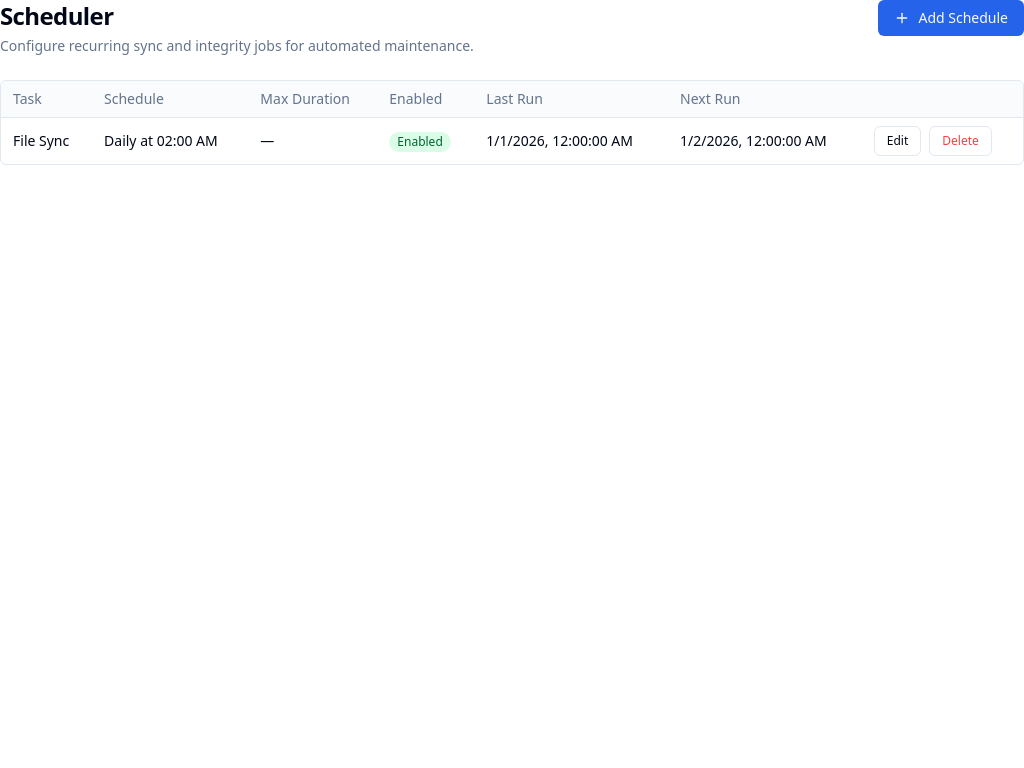
SchedulerPage › creates a schedule with a custom cron expression
The image size is (1024, 768).
Expected: the row with test id "schedule-row-1" is shown, [1,118,1023,164]
Click the button "Add Schedule" at (951, 18), box [878,0,1023,36]
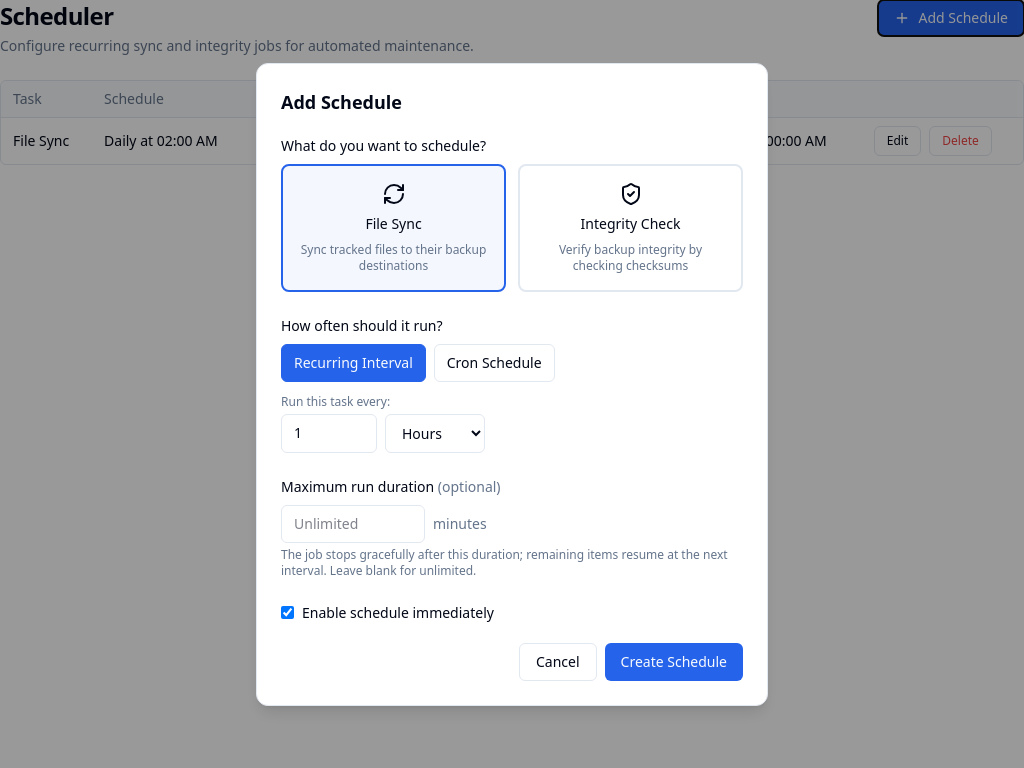
# Switch to cron timing method
Click the button "Cron Schedule" at (494, 362), box [434,344,555,382]
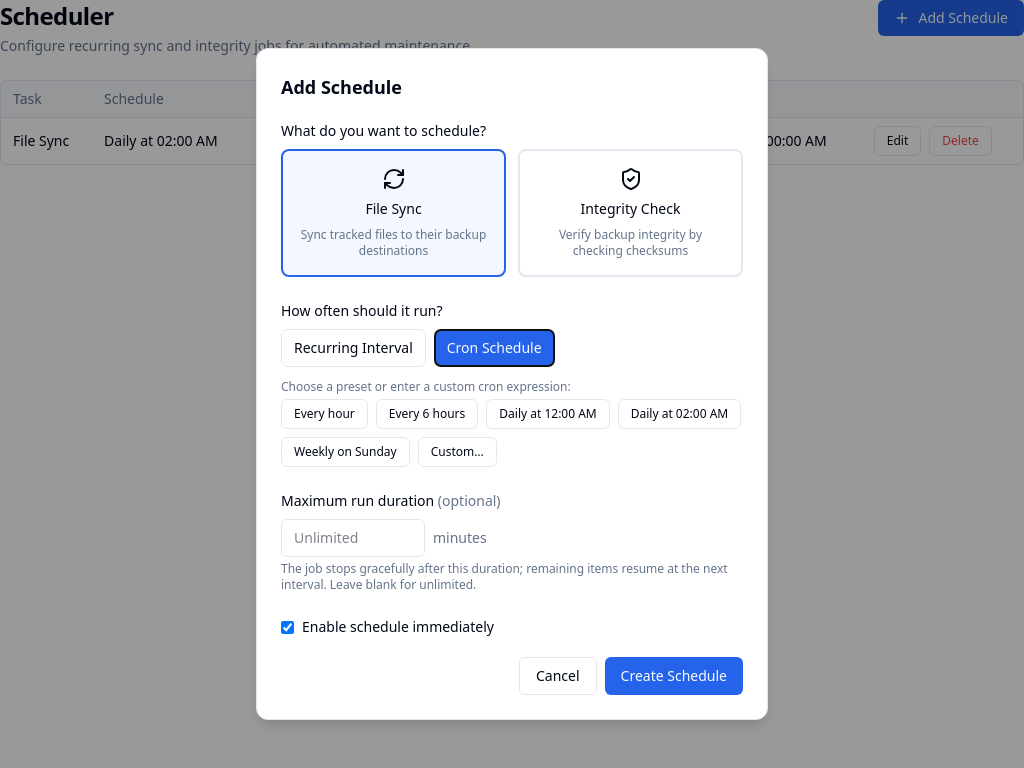
# Click Custom…
Click the button "Custom…" at (457, 452), box [418,437,497,467]
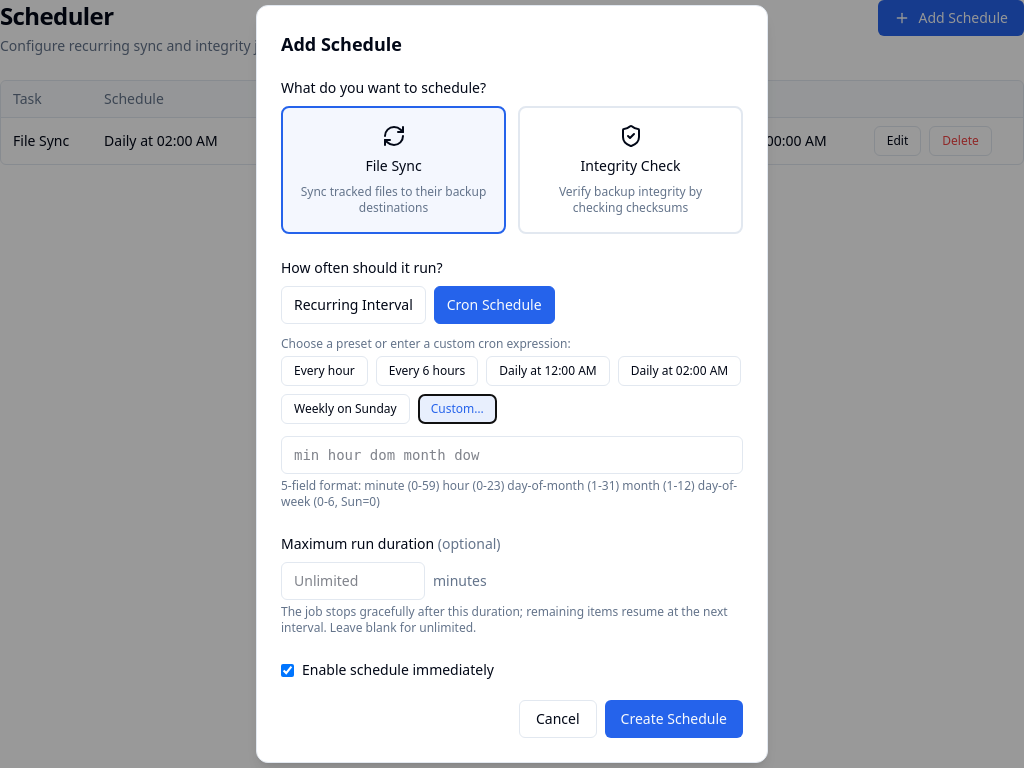
# Type custom cron expression
Type "30 4 * * 1-5" into the field named "Custom cron expression" at (512, 455), box [281,436,743,474]
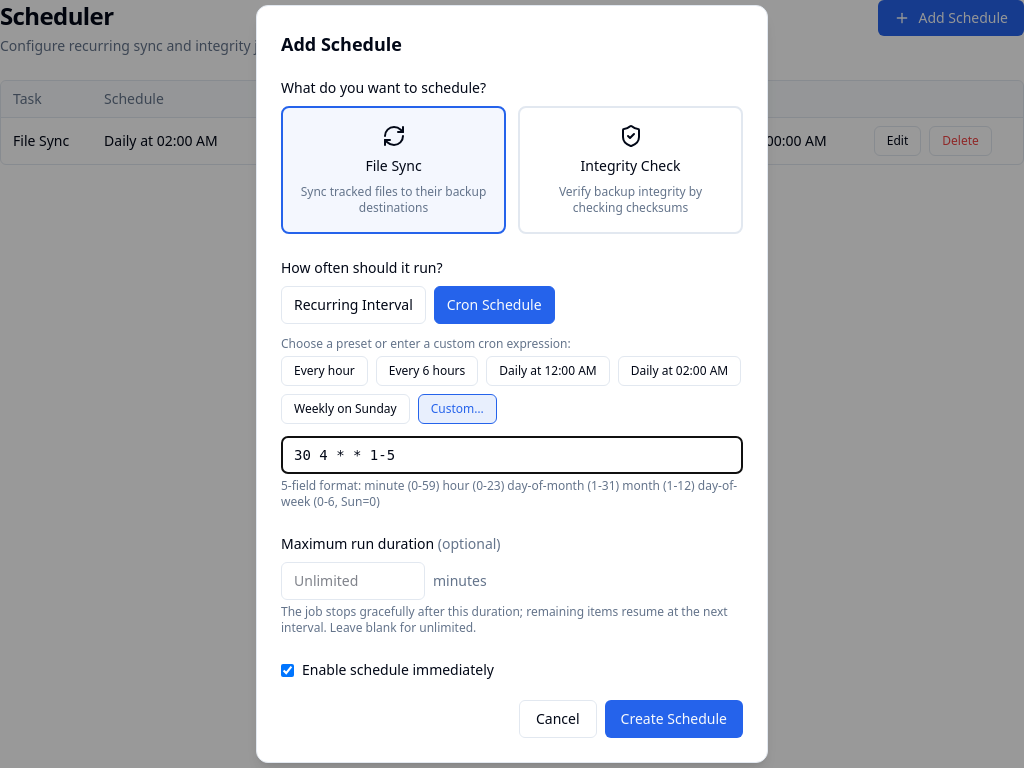
Click the button "Create Schedule" at (674, 719), box [605,700,743,738]
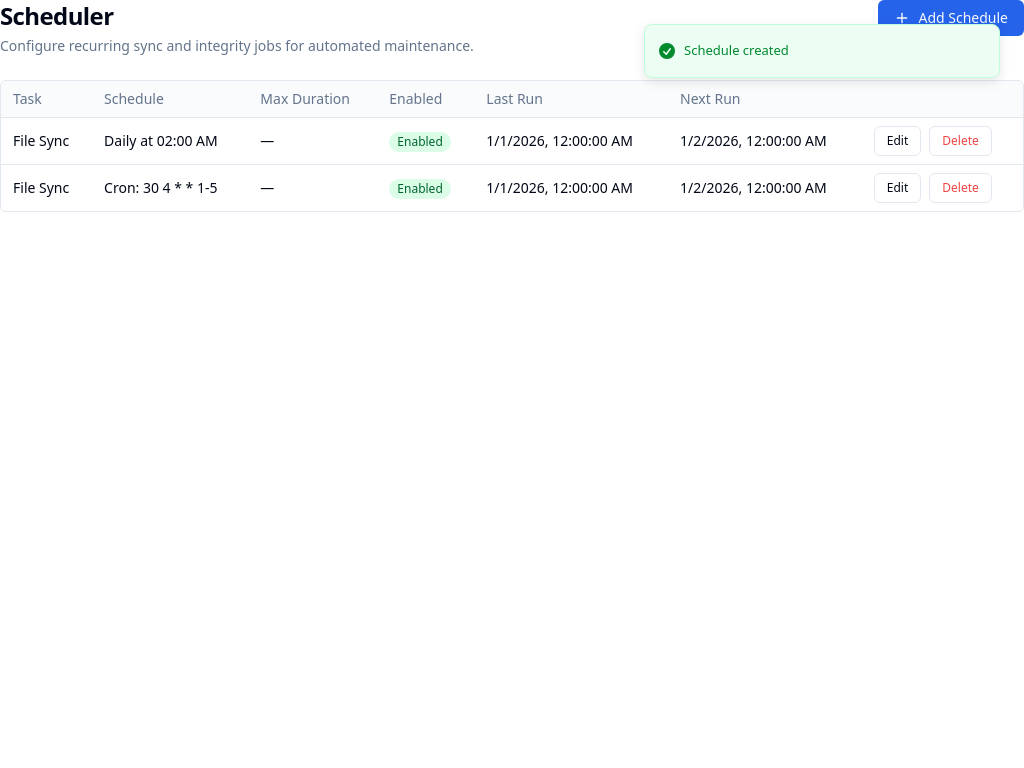
Expected: the text "Schedule created" is shown, [684,41,789,60]
